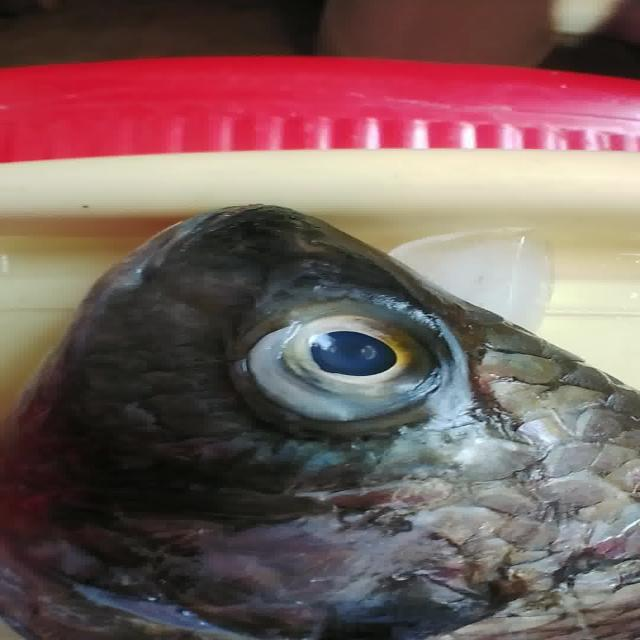Fresh: (202, 294, 474, 436)
